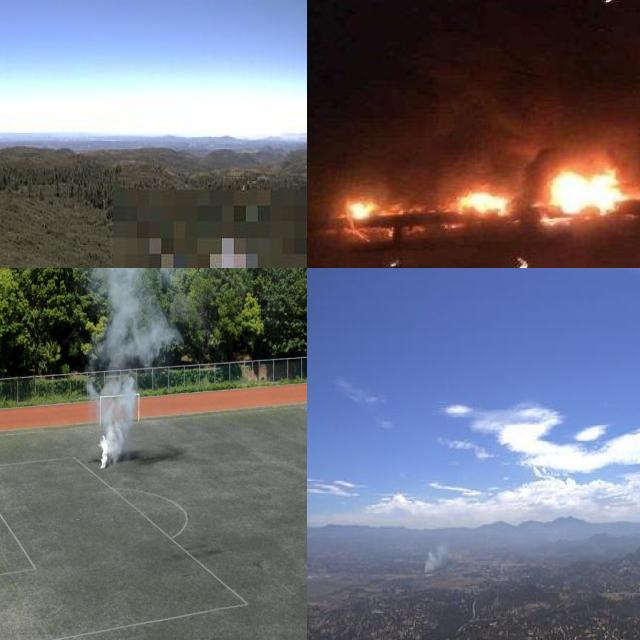fire: (541, 160, 640, 225), (442, 183, 512, 226), (344, 195, 389, 229)
smoke: (85, 268, 180, 464), (420, 526, 461, 577)
